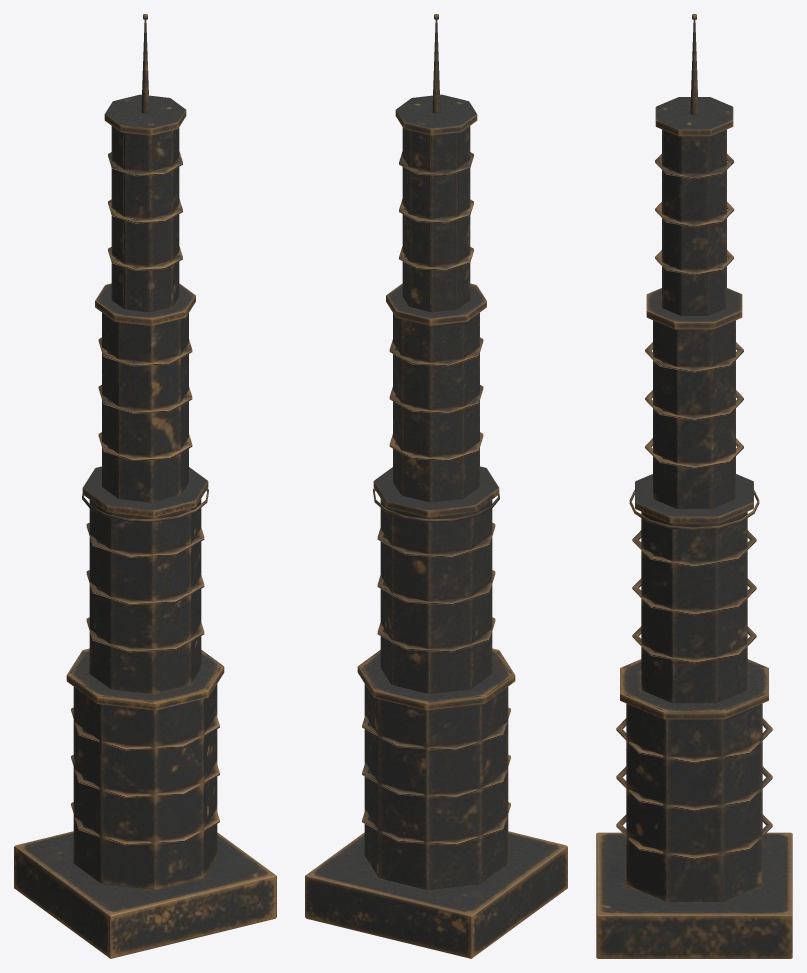
File: heatsink_thermalTowerLIron.048d16d4.glb
3 renders of one model, left to right at view 1: azimuth 30°, elevation 25°; view 2: azimuth 150°, elevation 25°; view 3: azimuth 270°, elevation 25°, orthographic.
Size of the model in its own units: 0.3945 by 2 by 0.3945.
Materials: 1 (1 with a texture image).
